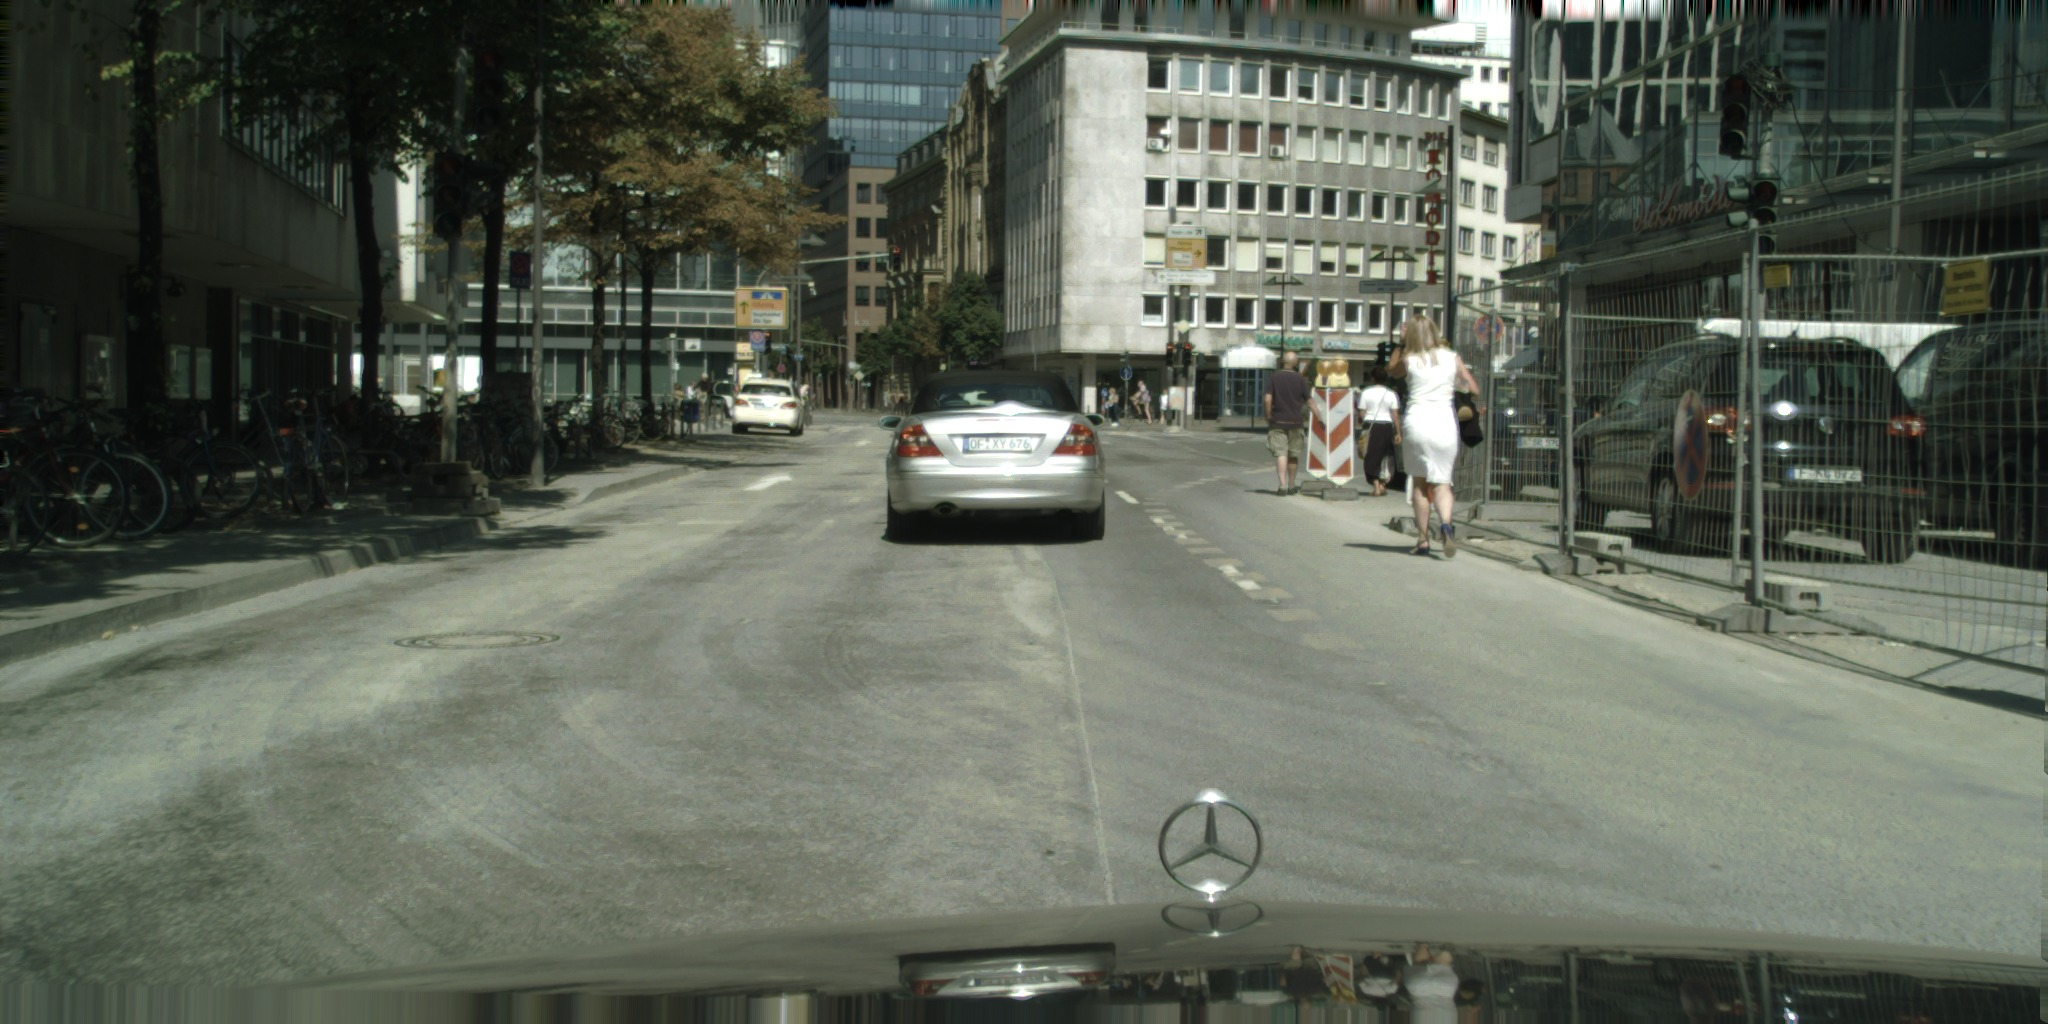bicycle: (1117, 400, 1161, 428)
car: (878, 369, 1107, 544), (1374, 364, 1438, 490), (731, 377, 806, 435), (702, 380, 745, 419)
person: (1388, 313, 1484, 560), (1263, 351, 1321, 498), (1357, 364, 1404, 497), (1107, 387, 1120, 427)
rider: (1128, 380, 1152, 425)
